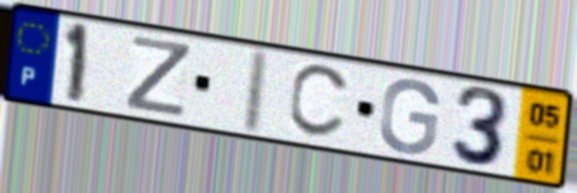1: (58, 19, 90, 106)
3: (448, 84, 514, 171)
C: (285, 63, 355, 142)
G: (376, 75, 442, 157)
I: (237, 46, 274, 137)
Z: (122, 32, 197, 120)
